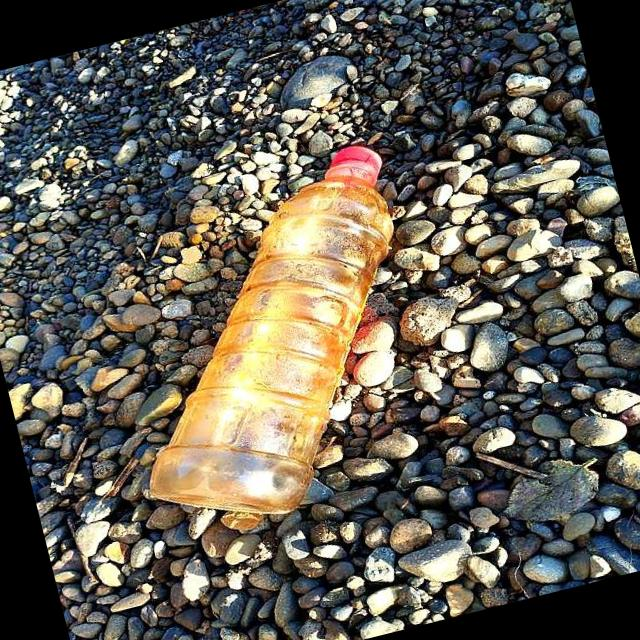Non-biodegradable: (63, 106, 510, 557)
